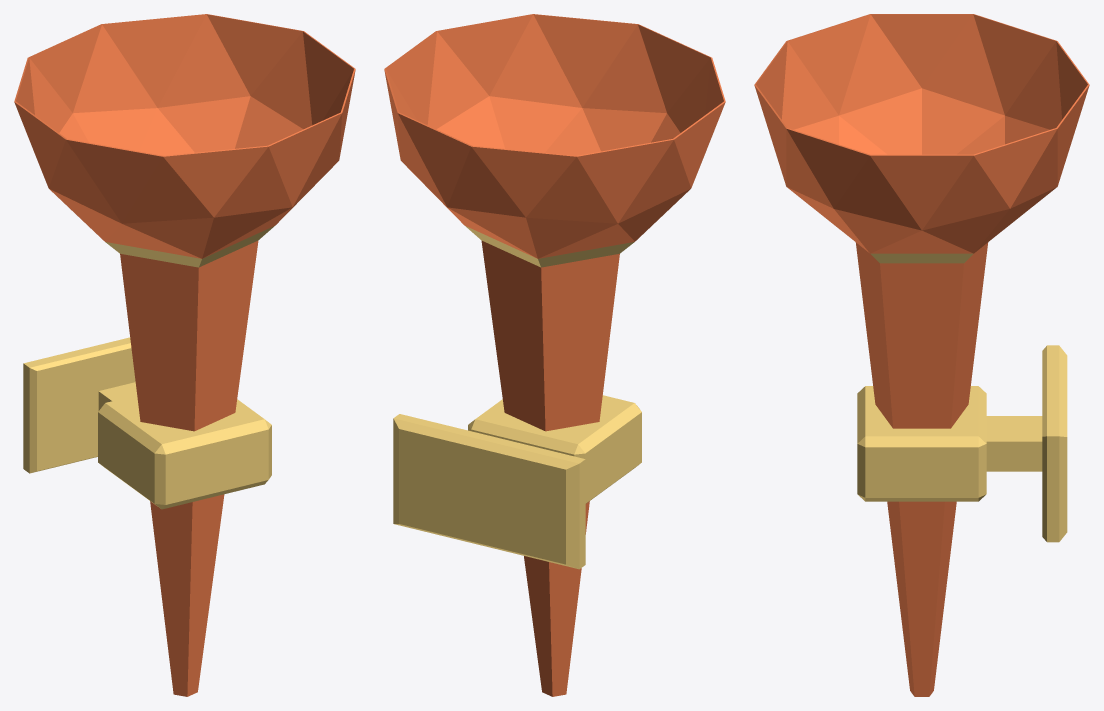
The model's file is torchereCastel_001_grp.fbx.
3 renders of one model, left to right at view 1: azimuth 30°, elevation 25°; view 2: azimuth 150°, elevation 25°; view 3: azimuth 270°, elevation 25°, orthographic.
Visible parts, largest first — view 1: torchereCastel_001_grp; view 2: torchereCastel_001_grp; view 3: torchereCastel_001_grp.
Boxes of the visible parts, box(x1,y1,x2,y2) form: torchereCastel_001_grp: box(14, 14, 355, 696); torchereCastel_001_grp: box(384, 14, 725, 696); torchereCastel_001_grp: box(754, 14, 1089, 696).
Bounding box in the file's own units: 25 × 50 × 25.
